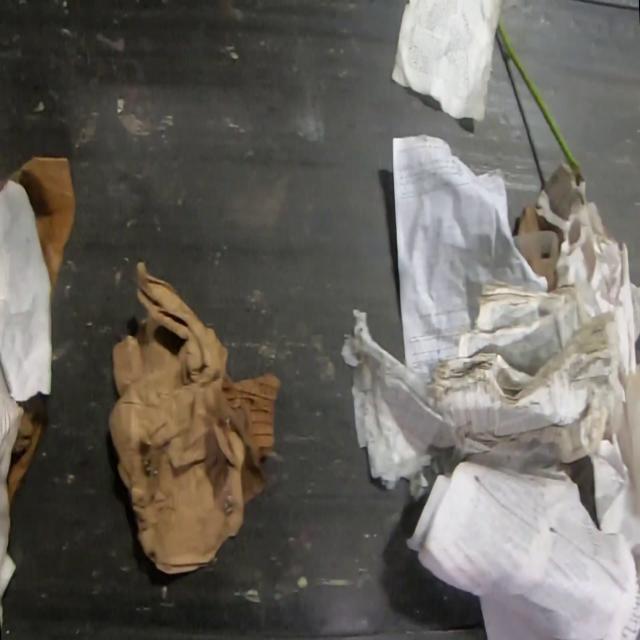cardboard: (108, 260, 282, 573), (10, 156, 77, 297), (5, 395, 47, 506)
